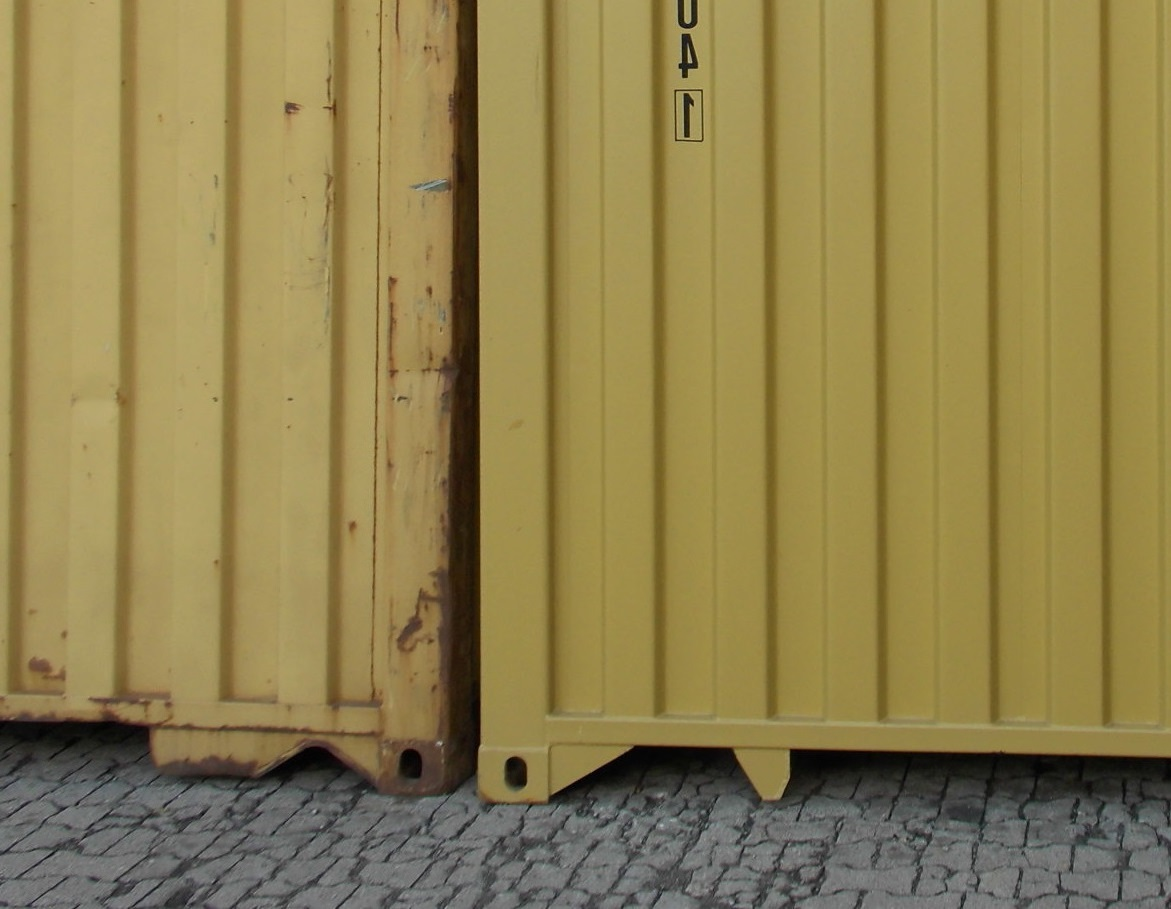container_no_door: (476, 6, 1168, 803), (1, 1, 446, 800)
